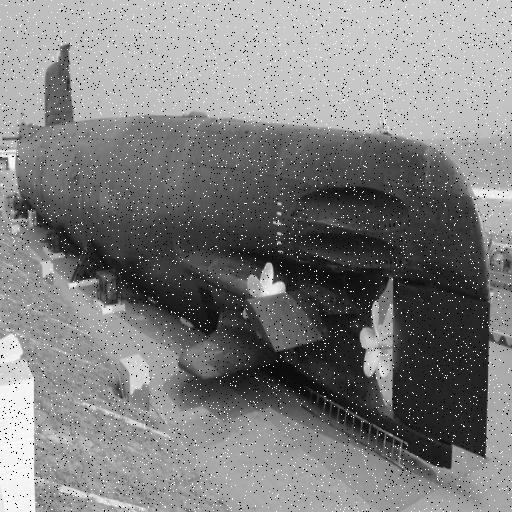submarine: (17, 44, 489, 483)
